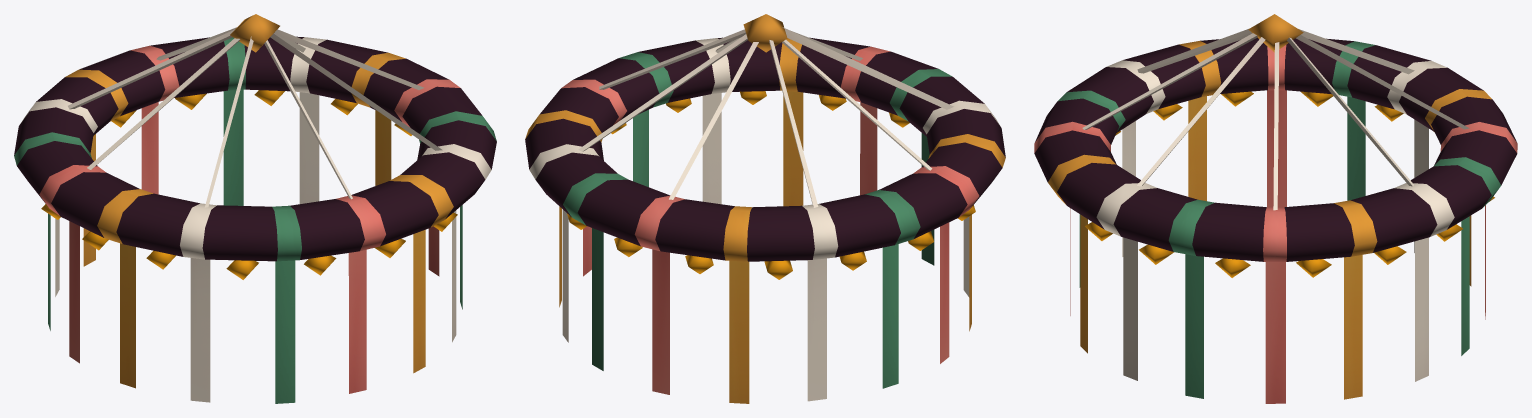
Rendered from Lamp.glb.
3 views of the same model, side by side, from view 1: azimuth 30°, elevation 25°; view 2: azimuth 150°, elevation 25°; view 3: azimuth 270°, elevation 25° (orthographic).
Parts seen in each view (by area): view 1: Lamp; view 2: Lamp; view 3: Lamp.
Part boxes in pixels (bbox=[...]): Lamp: bbox=[14, 14, 496, 403]; Lamp: bbox=[525, 14, 1005, 403]; Lamp: bbox=[1034, 14, 1517, 403].
Size of the model in its own units: 7.2 by 4.98 by 7.2.
Materials: 3 (3 with a texture image).
